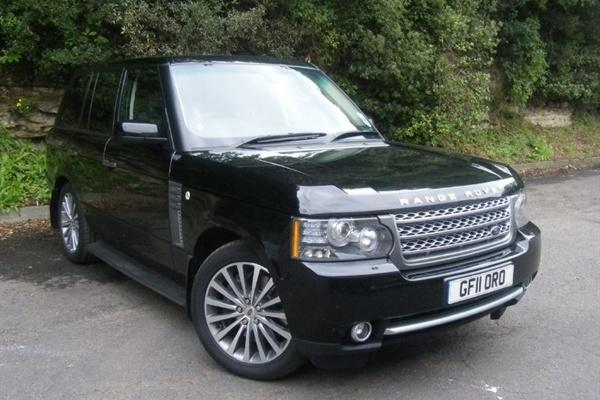range rover: (396, 180, 509, 212)
